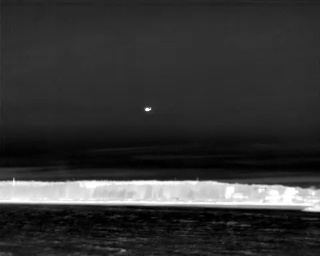HELICOPTER: (141, 103, 155, 117)
